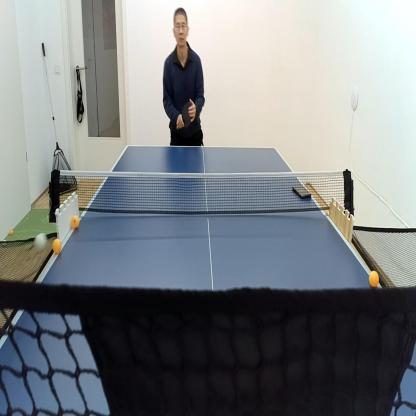Ball: (34, 232, 48, 254), (368, 268, 380, 289), (52, 236, 62, 255), (70, 213, 80, 230), (1, 238, 7, 247), (10, 228, 13, 236)
